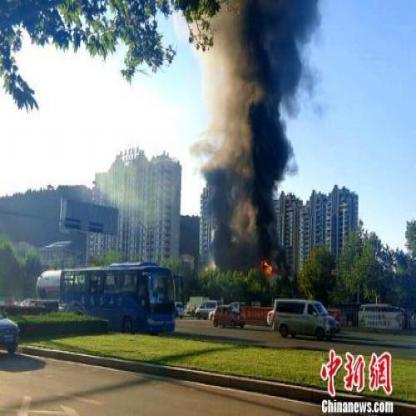smoke: (212, 0, 320, 70), (193, 122, 291, 198), (209, 204, 286, 268), (199, 69, 283, 124)
